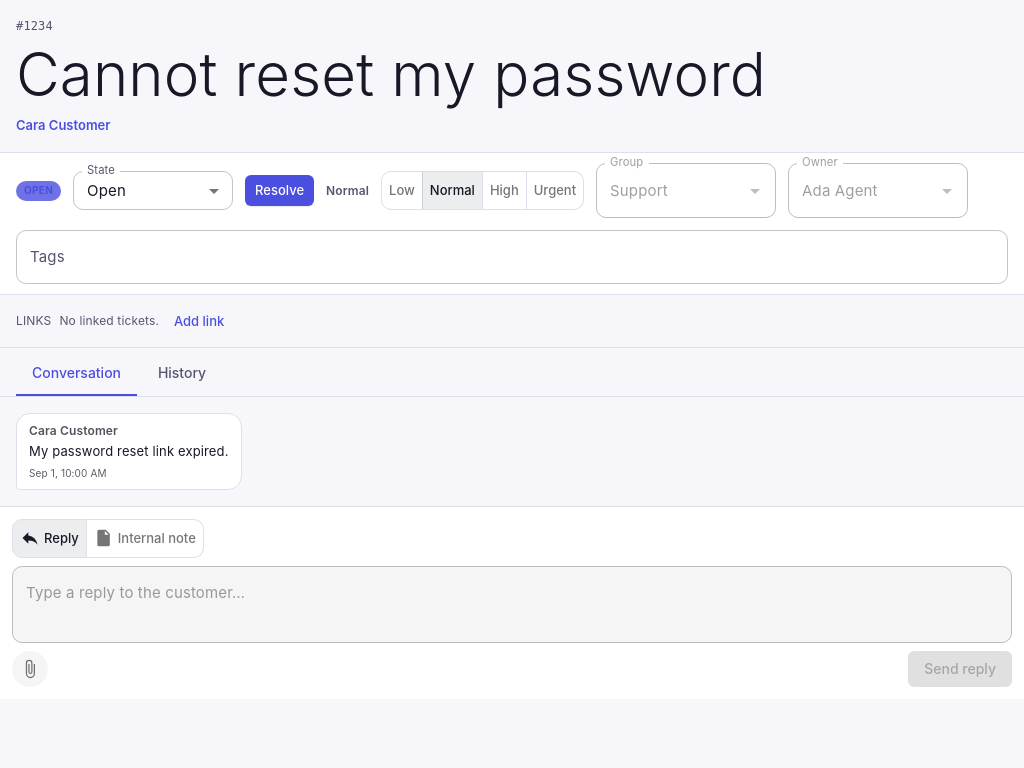
Test: TicketFocus › offers @mention candidates from the ticket-scoped endpoint, fetched by prefix, without listing users
Expected: the heading "Cannot reset my password" is shown, [16,38,766,110]
Type "Hi @al" into the dropdown labelled "reply".
click(512, 604); type("Hi @al")  # box [26,582,998,626]
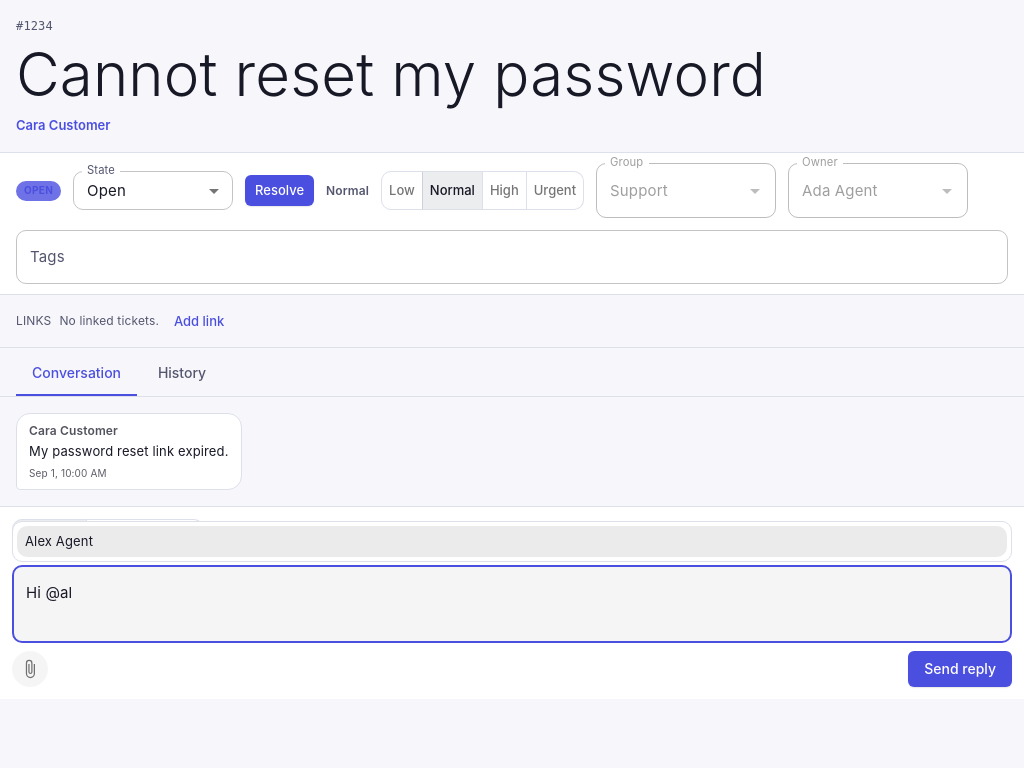
Result: the number of options is 1
Click the option "Alex Agent".
click(59, 540)  # box [17,526,1007,557]
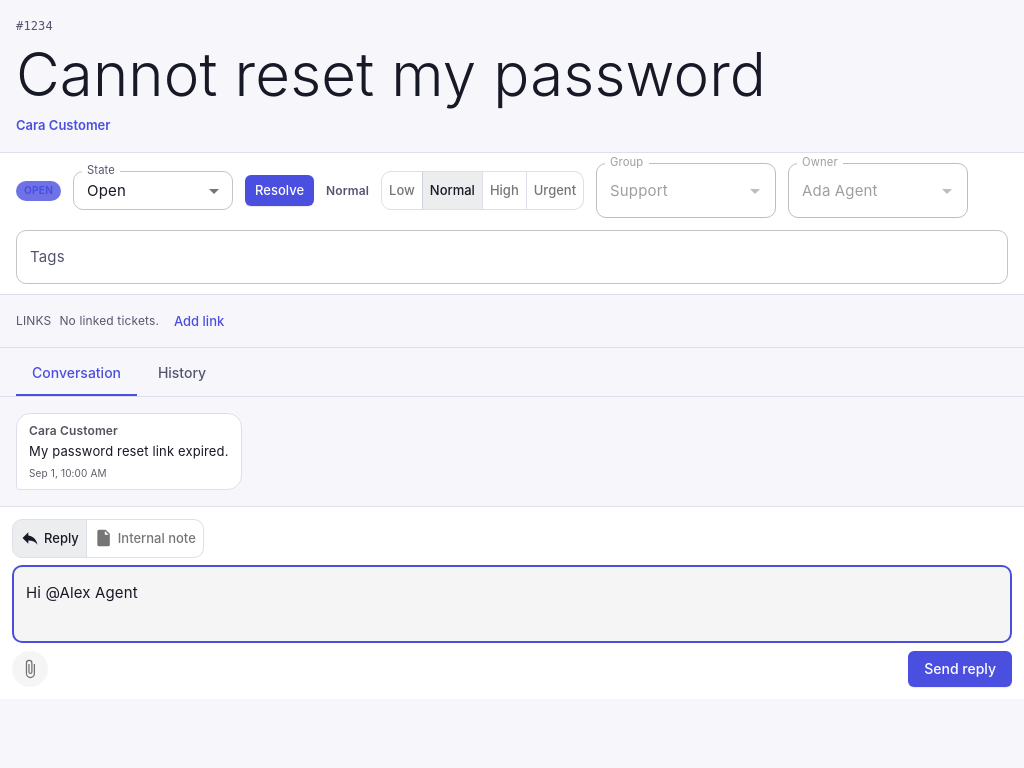
Result: the dropdown named "reply" holds "Hi @Alex Agent " at [26,582,998,626]
